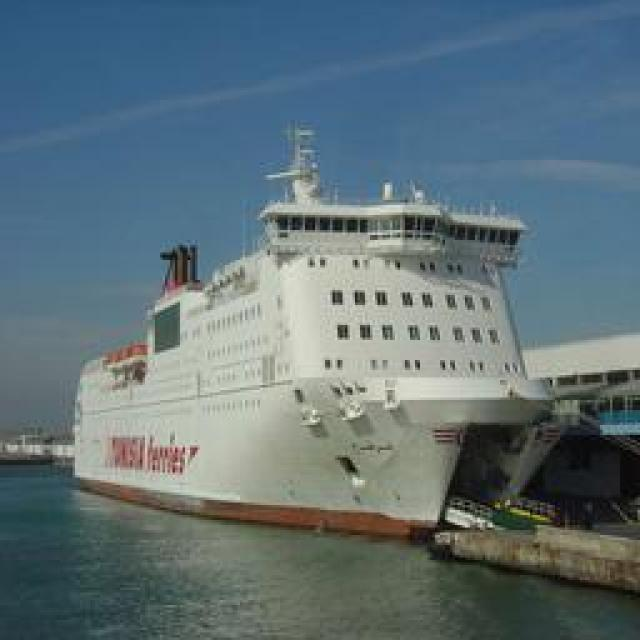CIV_Ship: (70, 111, 625, 539)
